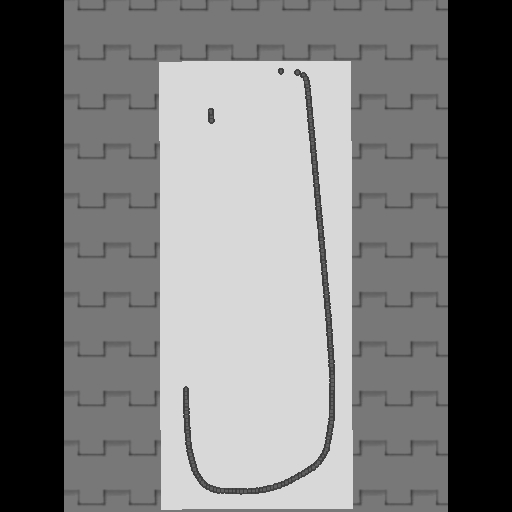Defect: (180, 120, 216, 388)
